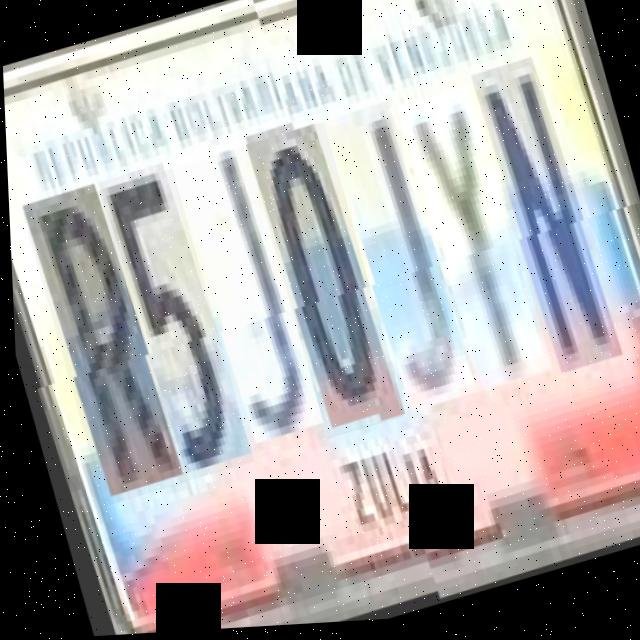5: (96, 167, 250, 487)
J: (320, 102, 473, 422), (168, 145, 323, 459)
N: (468, 59, 620, 387)
O: (244, 122, 402, 445)
R: (20, 187, 181, 510)
Y: (394, 87, 550, 401)
